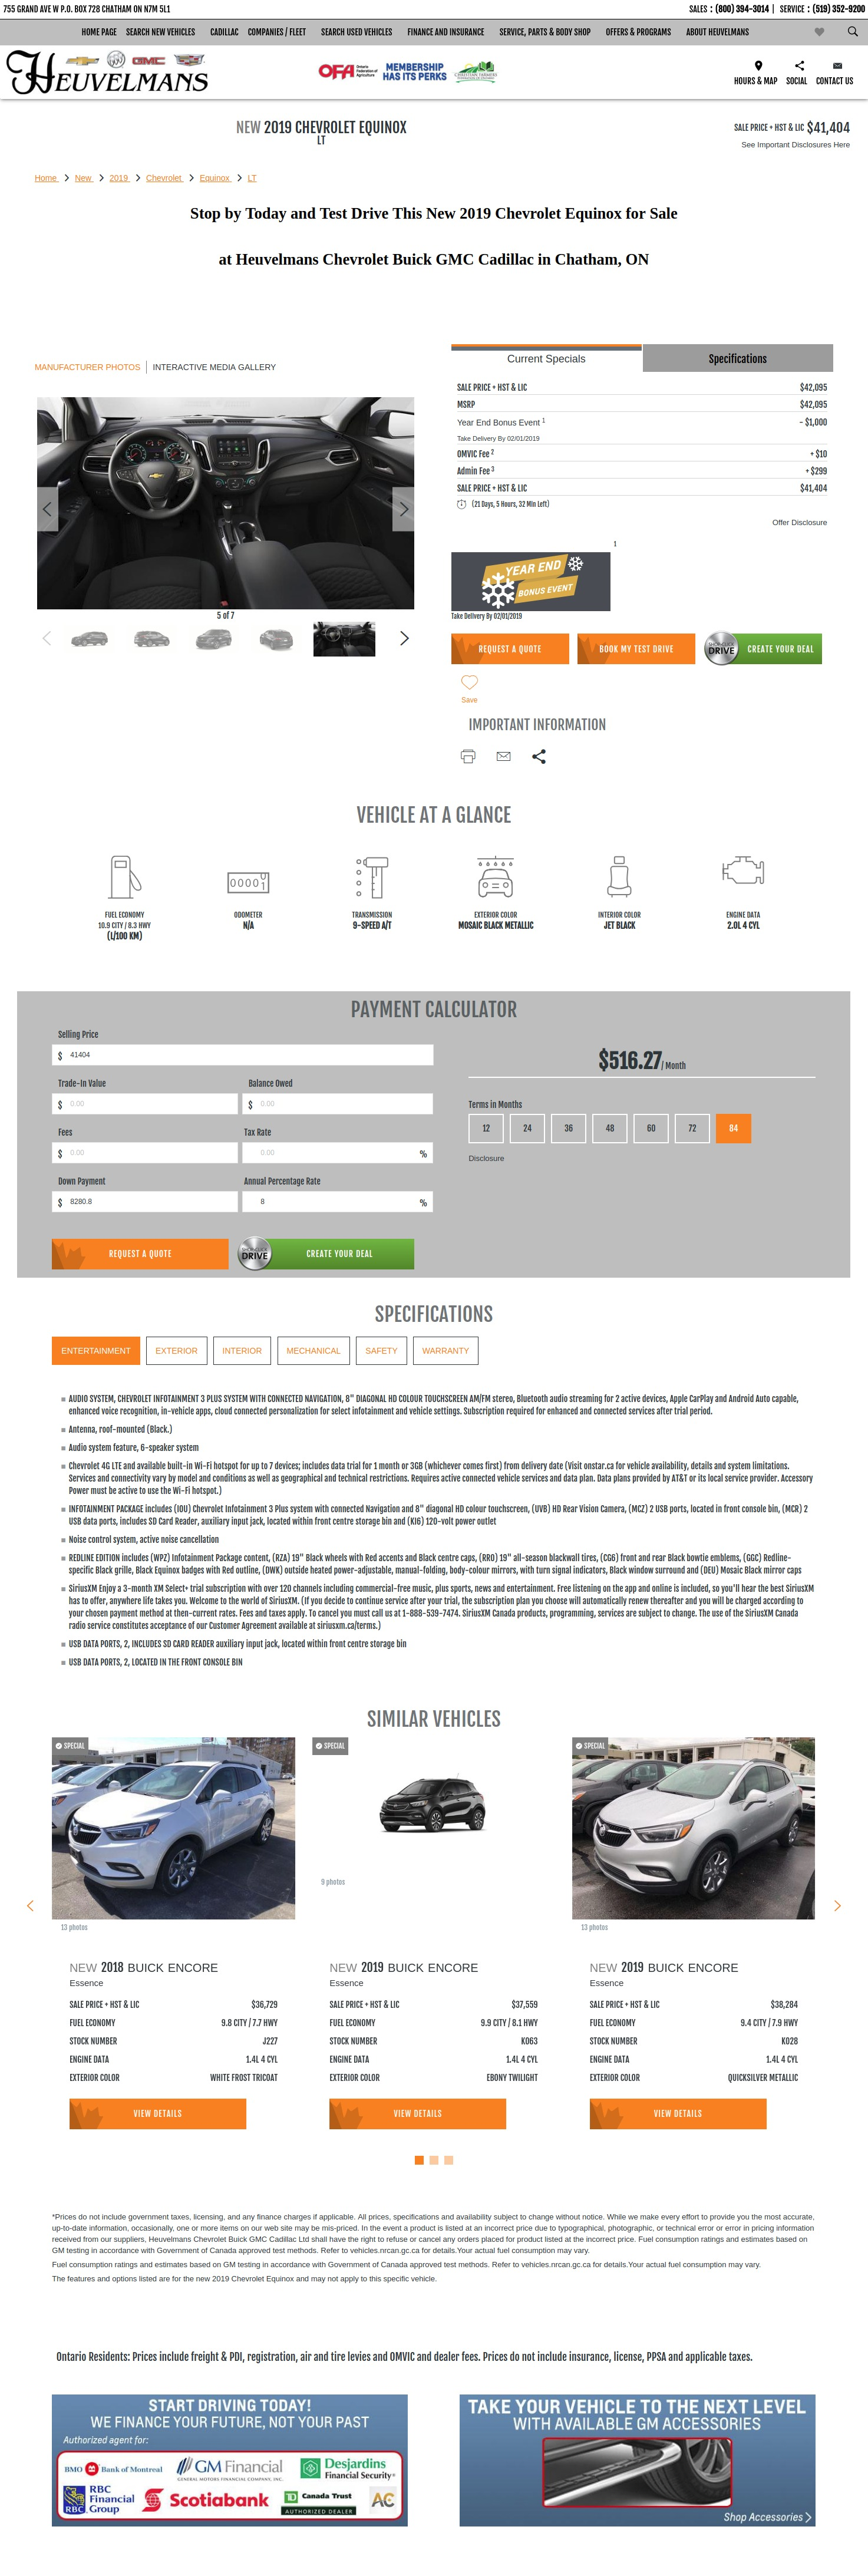car: (401, 631, 409, 646)
